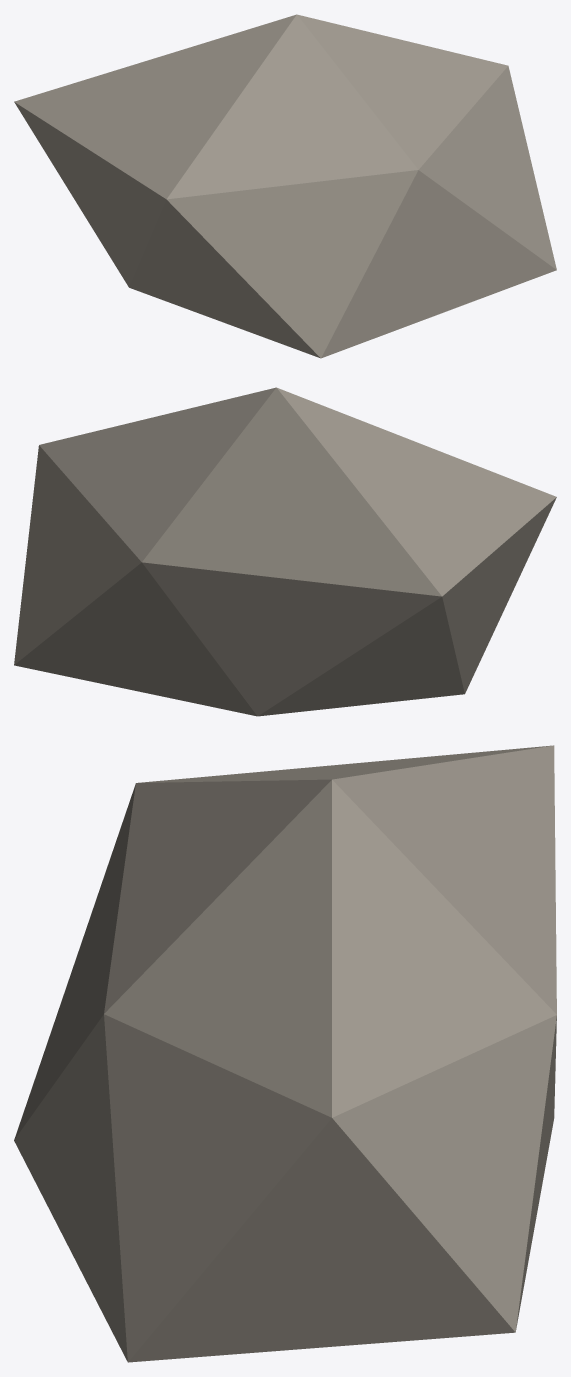
File: HS_LP_Rock_Medium_01.fbx
3 views of the same model, one above another, from view 1: azimuth 30°, elevation 25°; view 2: azimuth 150°, elevation 25°; view 3: azimuth 270°, elevation 25° (orthographic). The views are drawn at different scales.
Visible parts, largest first — view 1: HS_LP_Rock_Medium_01; view 2: HS_LP_Rock_Medium_01; view 3: HS_LP_Rock_Medium_01.
Part boxes in pixels (left/top/right/bottom): HS_LP_Rock_Medium_01: left=14, top=14, right=556, bottom=358; HS_LP_Rock_Medium_01: left=14, top=387, right=556, bottom=716; HS_LP_Rock_Medium_01: left=14, top=745, right=556, bottom=1362.
Bounding box in the file's own units: 91.71 × 59.63 × 61.54.
